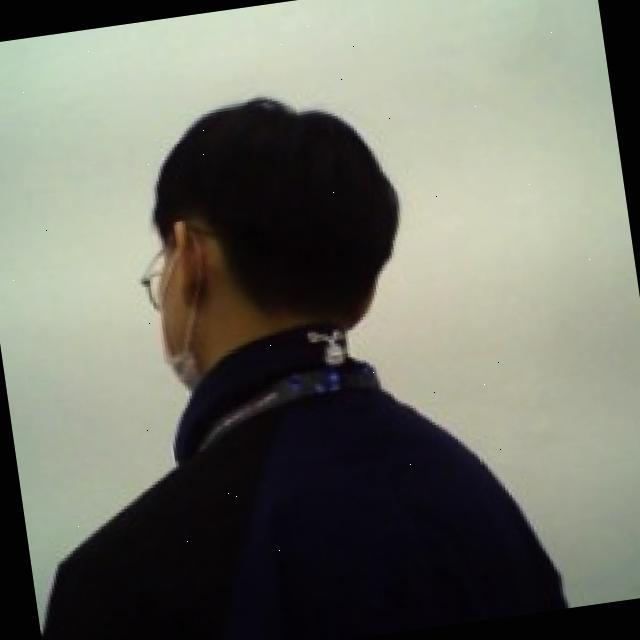no_gloves: (136, 70, 418, 357)
